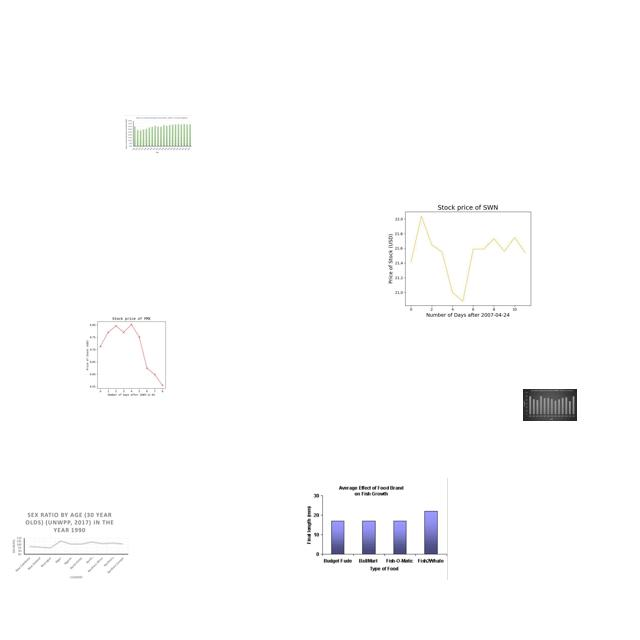Graph: (385, 197, 547, 319), (300, 478, 448, 580), (72, 311, 188, 398), (9, 510, 130, 580), (124, 115, 193, 154), (523, 389, 577, 421)
